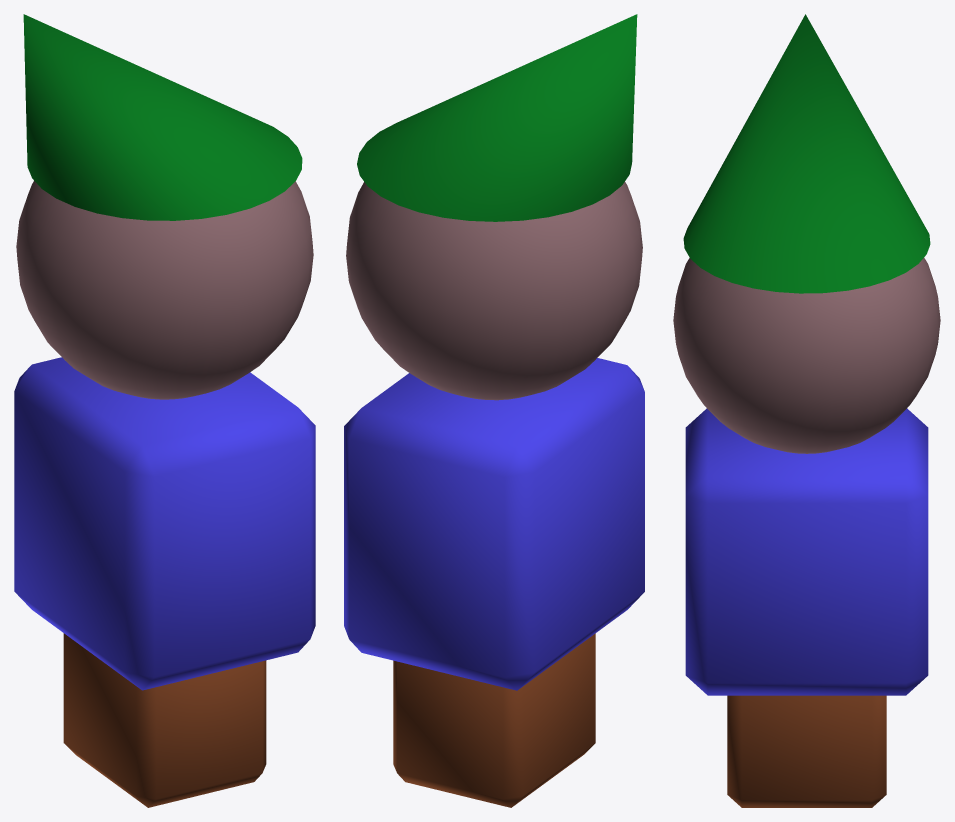
Rendered from Delivery Boy_smooth.glb.
The picture shows the model from 3 angles, left to right: view 1: azimuth 30°, elevation 25°; view 2: azimuth 150°, elevation 25°; view 3: azimuth 270°, elevation 25°; orthographic projection. The views are drawn at different scales.
Visible parts, largest first — view 1: Body, Head, Hat, Legs; view 2: Body, Head, Hat, Legs; view 3: Body, Hat, Head, Legs.
Boxes of the visible parts, <box> form: Body: <box>14,357,315,690</box>; Head: <box>16,181,313,399</box>; Hat: <box>23,14,302,220</box>; Legs: <box>63,633,266,807</box>; Body: <box>344,358,644,690</box>; Head: <box>346,182,642,400</box>; Hat: <box>357,14,637,221</box>; Legs: <box>393,633,595,807</box>; Body: <box>685,408,928,695</box>; Hat: <box>683,14,930,293</box>; Head: <box>673,257,940,453</box>; Legs: <box>727,695,886,807</box>.
Size of the model in its own units: 1.26 by 3.52 by 1.2.
